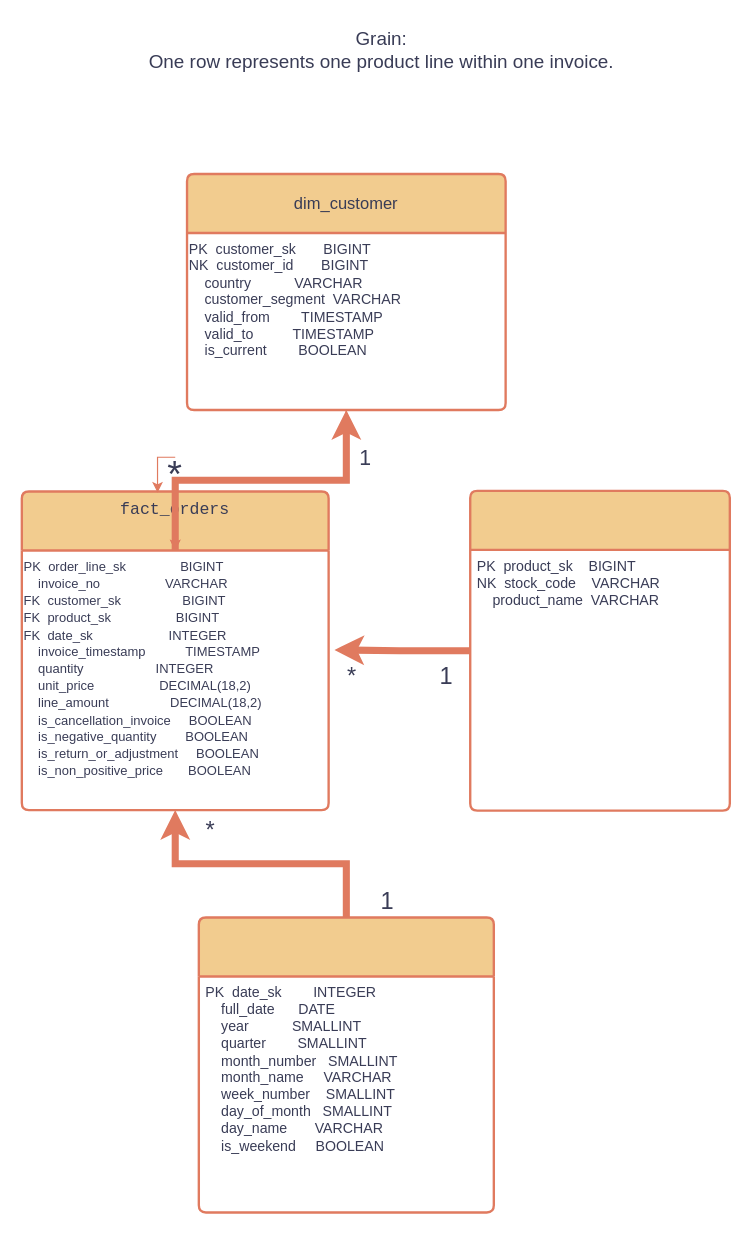
Image size: 750x1233. Some labels were removed from this diagram. Each missing label, with the box of its shape:
dim_date: (197, 916, 494, 1213)
dim_product: (468, 489, 730, 811)
